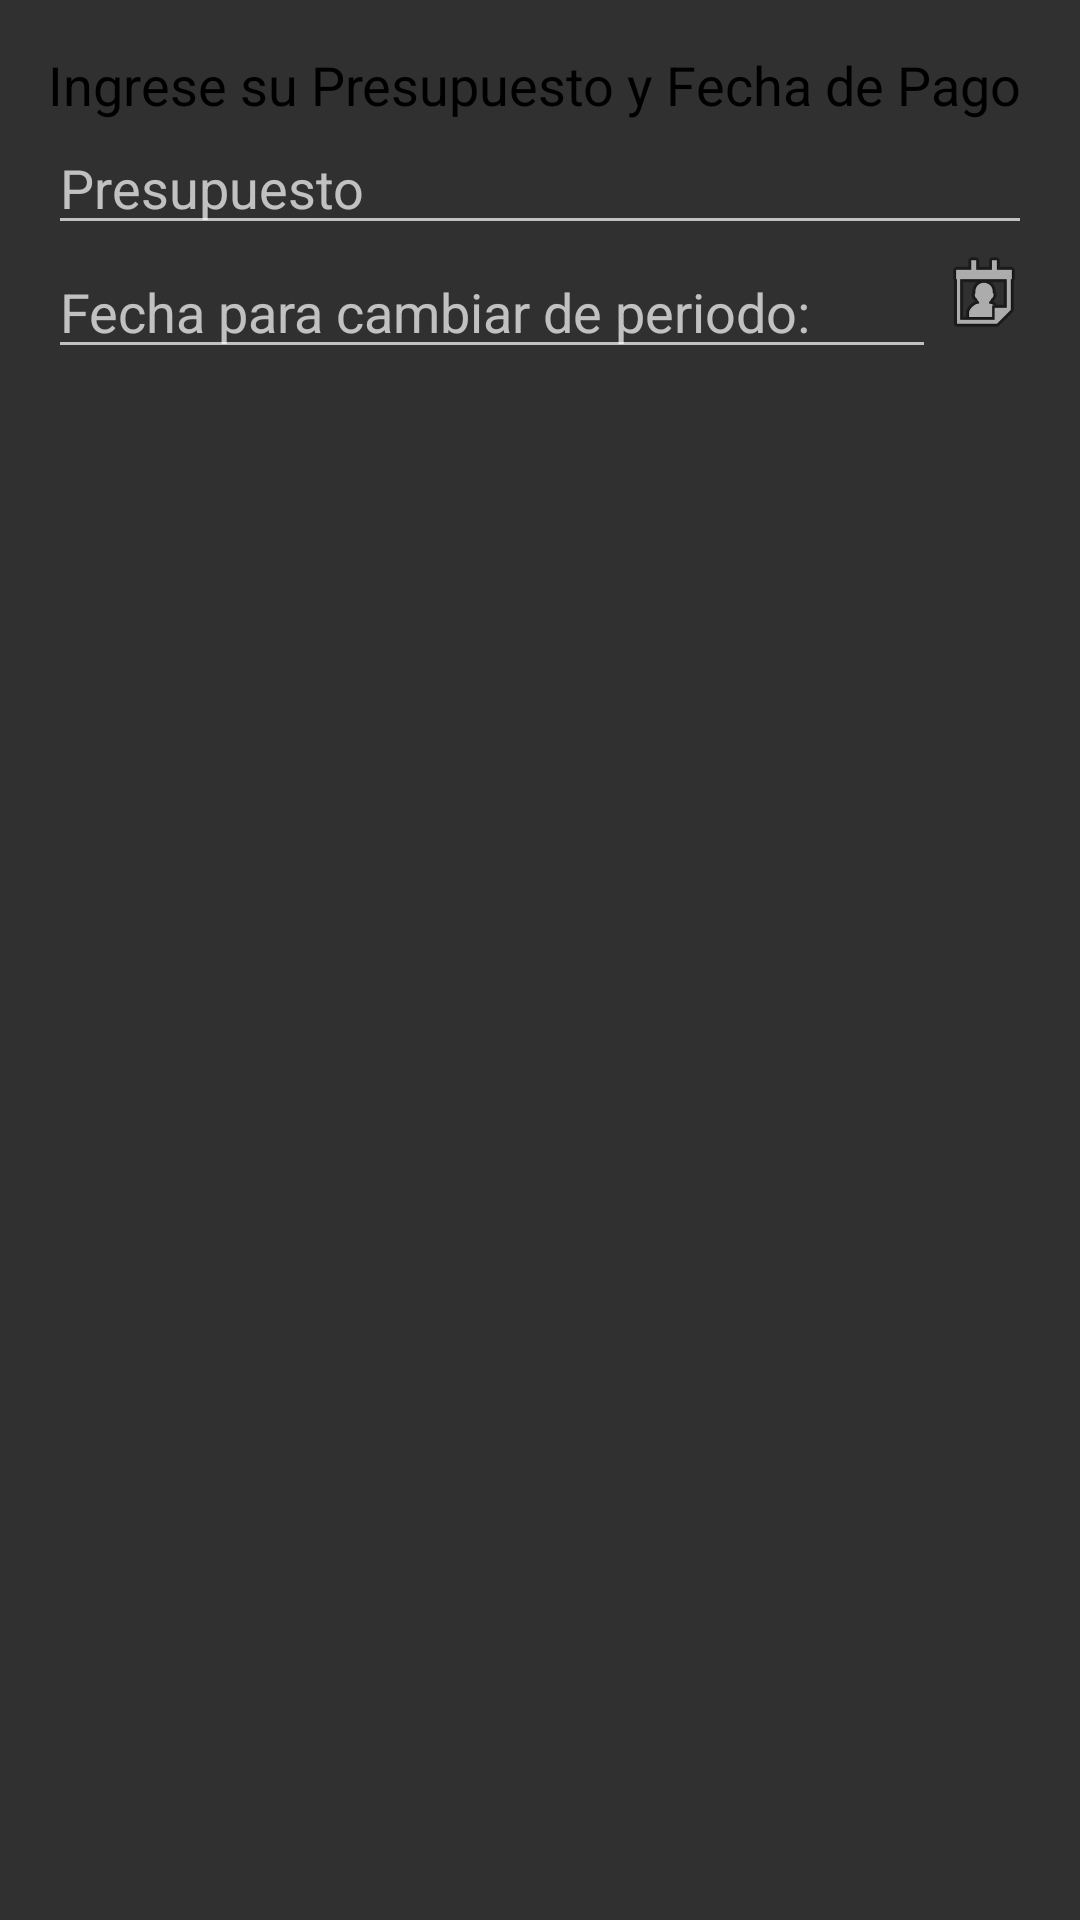

Icons on this 1080x1920 Android screen, each with its box as (x1, y1, x2, y2):
Botón de calendario: (955, 259, 1013, 325)
